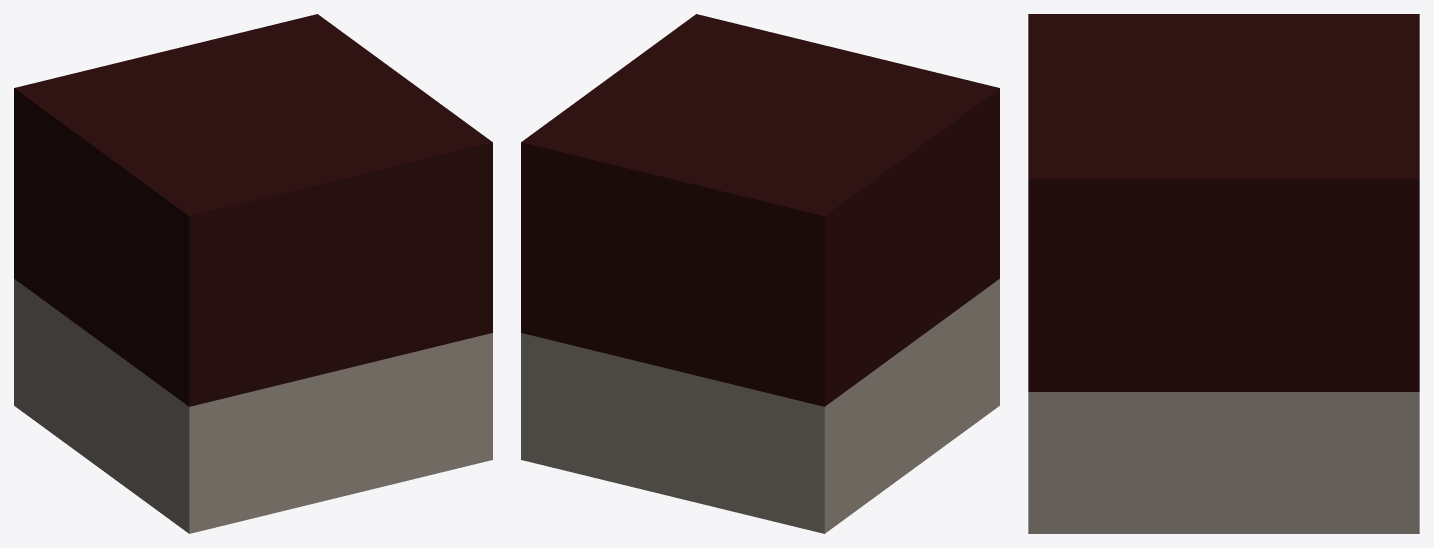
The model's file is Villager-0.obj.
The picture shows the model from 3 angles, left to right: view 1: azimuth 30°, elevation 25°; view 2: azimuth 150°, elevation 25°; view 3: azimuth 270°, elevation 25°; orthographic projection. The views are drawn at different scales.
Bounding box in the file's own units: 0.5 × 0.5 × 0.5.
Materials: 1 (1 with a texture image).
